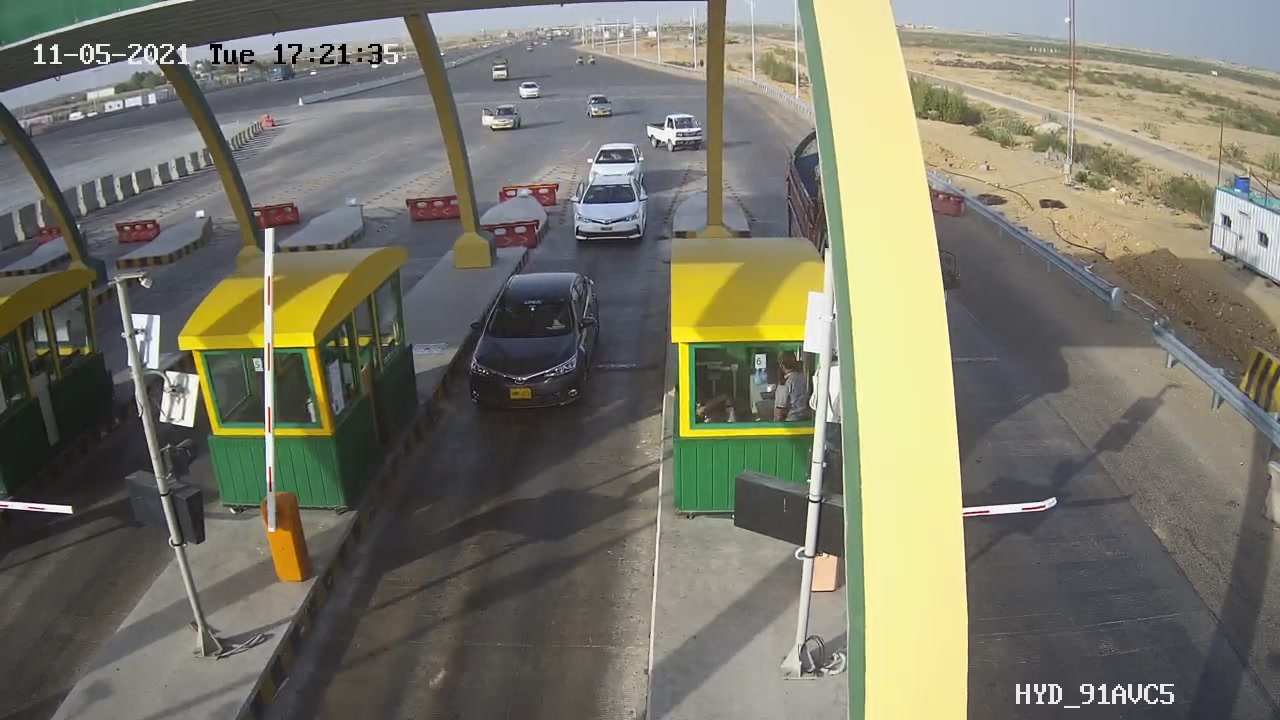F1: (450, 257, 622, 434)
